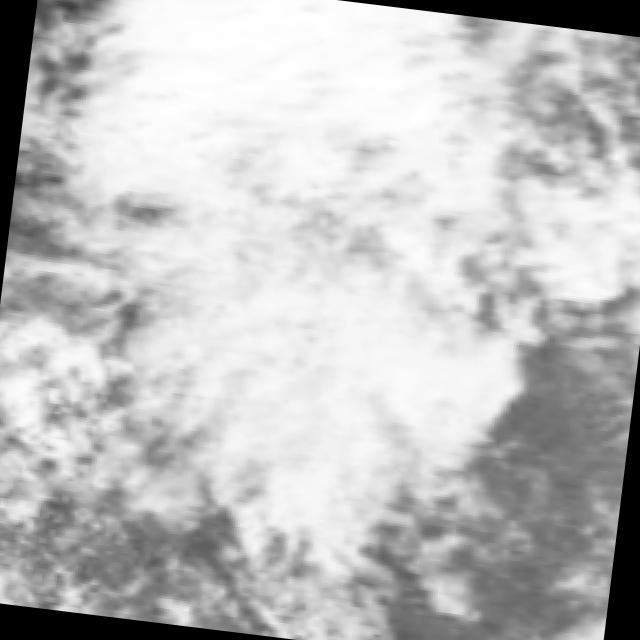CB: (170, 286, 472, 432), (144, 0, 411, 146)
